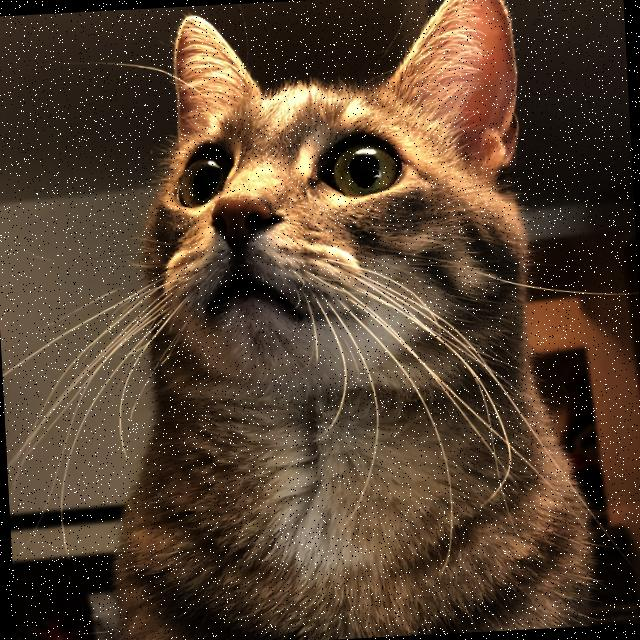Surprised: (134, 105, 454, 364)
